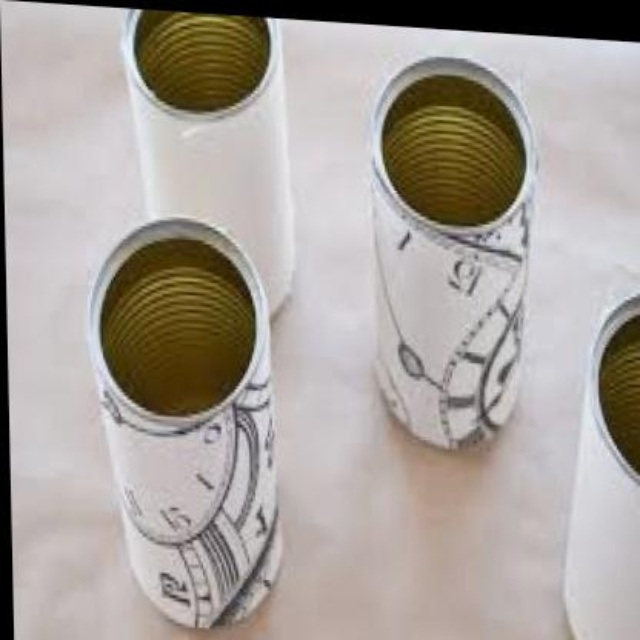trash: (89, 220, 280, 626), (372, 58, 534, 448), (123, 11, 292, 312), (565, 266, 638, 638)
